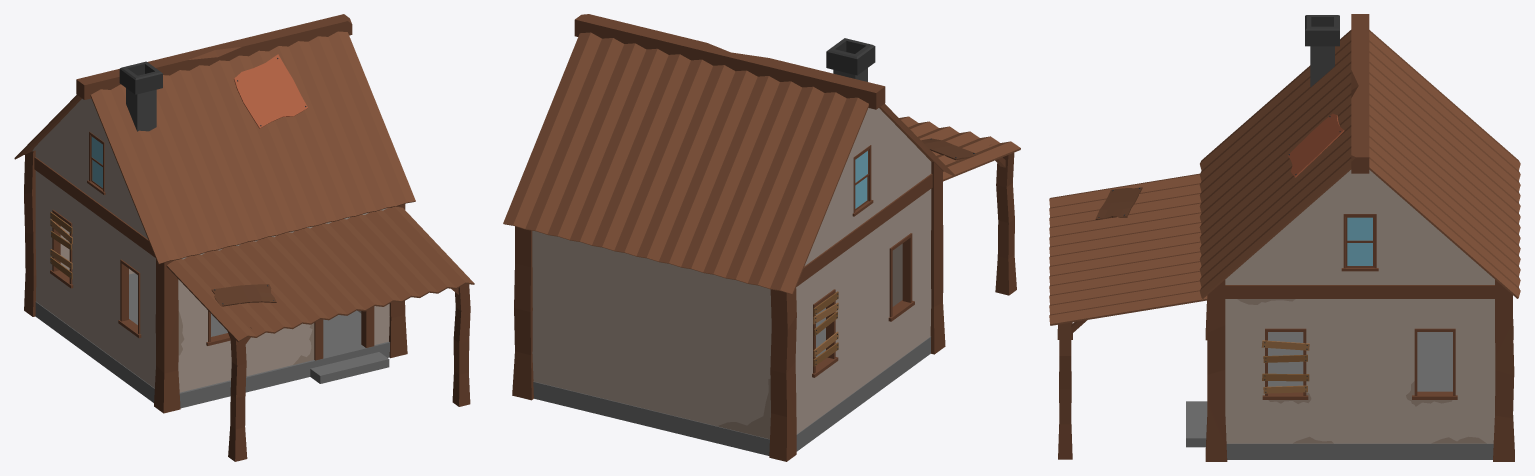
File: House_03.fbx
3 views of the same model, side by side, from view 1: azimuth 30°, elevation 25°; view 2: azimuth 150°, elevation 25°; view 3: azimuth 270°, elevation 25° (orthographic). The views are drawn at different scales.
Parts seen in each view (by area): view 1: House_03; view 2: House_03; view 3: House_03.
Part boxes in pixels (box(x1,y1,x2,y2)): House_03: box(14, 14, 474, 461); House_03: box(503, 14, 1020, 461); House_03: box(1049, 14, 1520, 461).
Bounding box in the file's own units: 566 × 601 × 787.
